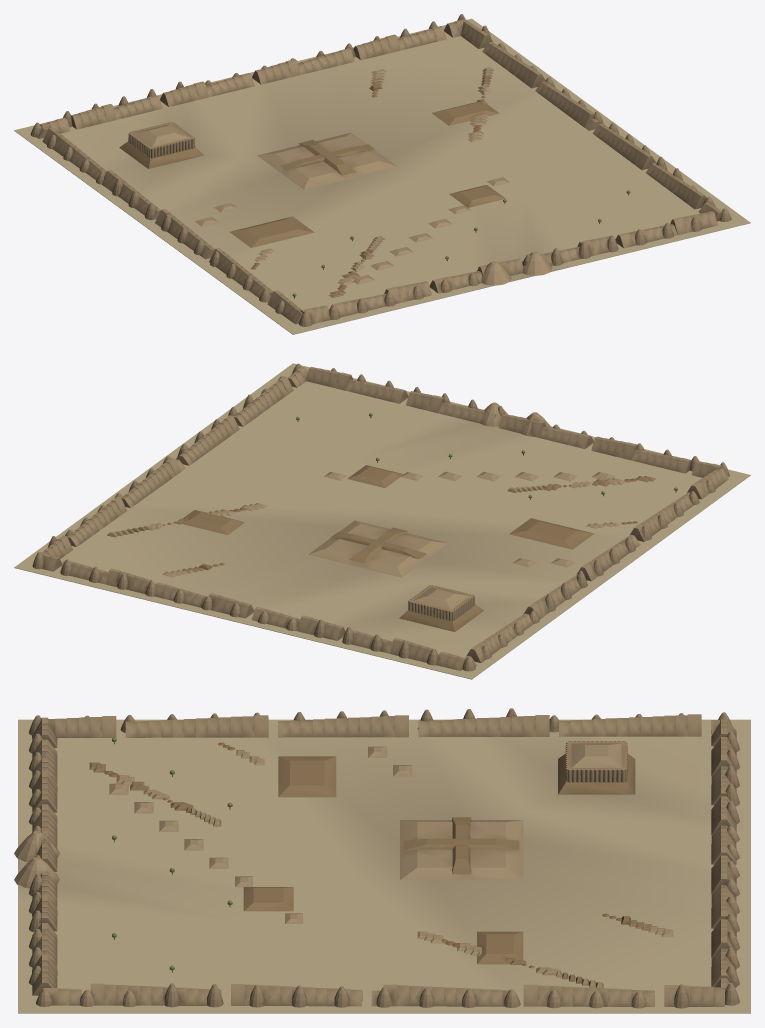
Rendered from shahriyar-ark-ruin.glb.
3 views of the same model, one above another, from view 1: azimuth 30°, elevation 25°; view 2: azimuth 150°, elevation 25°; view 3: azimuth 270°, elevation 25° (orthographic). The views are drawn at different scales.
Parts seen in each view (by area): view 1: p0_ground, p1_ruins; view 2: p0_ground, p1_ruins; view 3: p0_ground, p1_ruins.
Part boxes in pixels (box(x1,y1,x2,y2)): p0_ground: box(14, 18, 750, 334); p1_ruins: box(30, 14, 731, 326); p0_ground: box(14, 363, 750, 679); p1_ruins: box(32, 363, 729, 671); p0_ground: box(18, 719, 750, 1013); p1_ruins: box(14, 708, 739, 1008).
Size of the model in its own units: 360 by 15.29 by 382.
